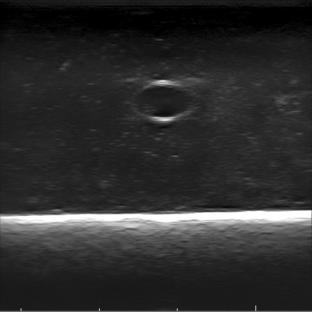vessel: (132, 79, 195, 122)
